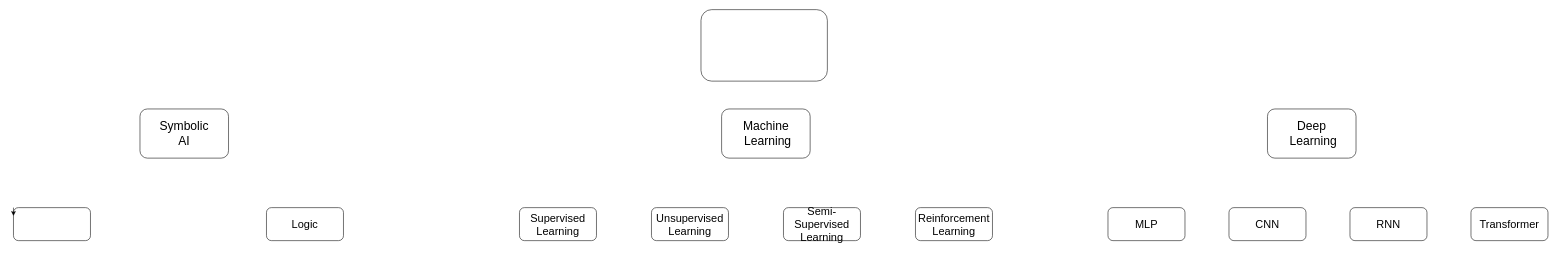
The diagram is 1558 pixels wide and 254 high, and some of its shapes have lost their labels. Here are the shapes that lost their labels. From the top down, the centre of each, then its label:
At point 763,45: "Artifical Inteligence".
At point 51,224: "Search".
